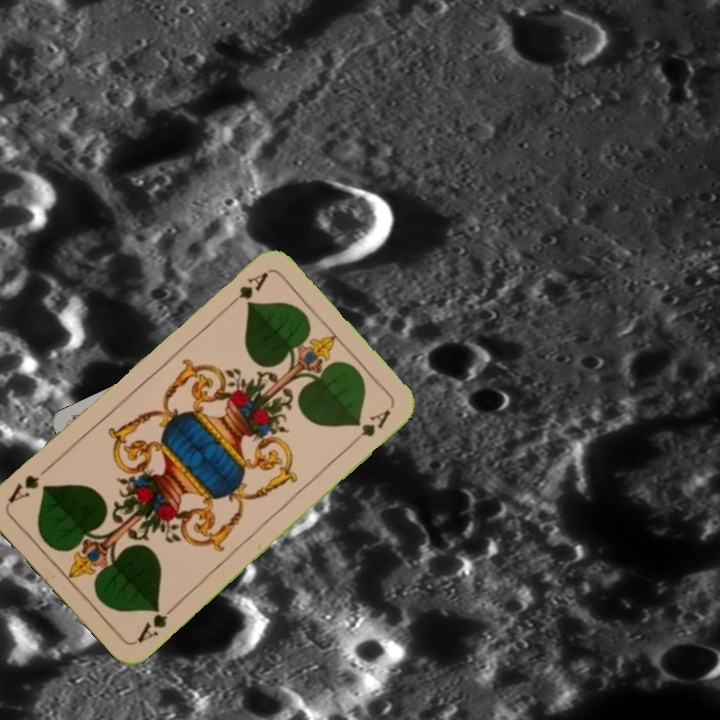GA: (132, 599, 180, 646), (221, 267, 271, 312)
